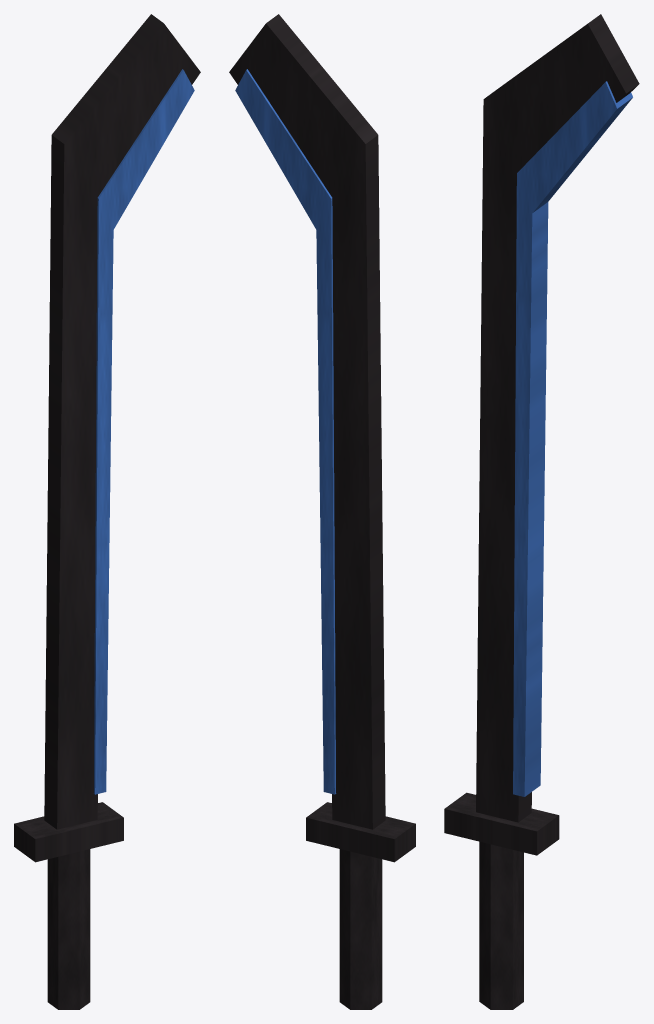
The model's file is rival_hooked_blade.obj.
3 renders of one model, left to right at view 1: azimuth 30°, elevation 25°; view 2: azimuth 150°, elevation 25°; view 3: azimuth 330°, elevation 25°, orthographic. The views are drawn at different scales.
Parts seen in each view (by area): view 1: rival_hooked_blade; view 2: rival_hooked_blade; view 3: rival_hooked_blade.
Boxes of the visible parts, box(x1,y1,x2,y2) form: rival_hooked_blade: box(14, 14, 200, 1009); rival_hooked_blade: box(229, 14, 415, 1009); rival_hooked_blade: box(444, 14, 639, 1009).
Size of the model in its own units: 0.2875 by 1.56 by 0.0624.
